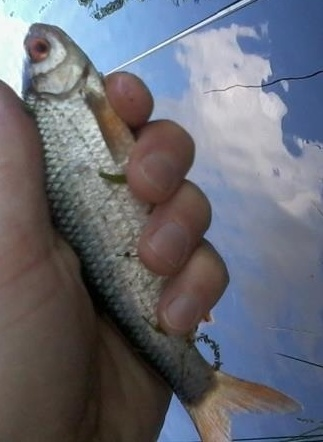Rutilus rutilus: (20, 20, 303, 442)
